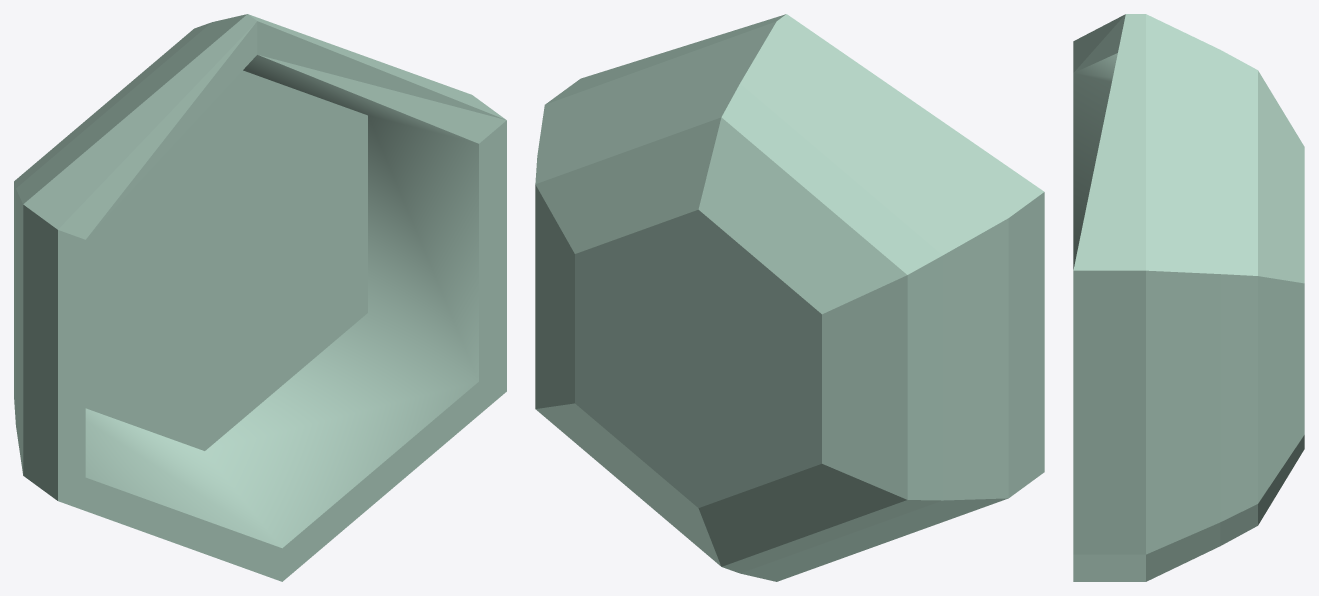
File: mediumbowl_visual.obj
3 renders of one model, left to right at view 1: azimuth 30°, elevation 25°; view 2: azimuth 150°, elevation 25°; view 3: azimuth 270°, elevation 25°, orthographic. The views are drawn at different scales.
Parts seen in each view (by area): view 1: mediumBowl10_ID5.000; view 2: mediumBowl10_ID5.000; view 3: mediumBowl10_ID5.000.
Boxes of the visible parts, x1,y1,x2,y2 form: mediumBowl10_ID5.000: [14, 14, 506, 581]; mediumBowl10_ID5.000: [535, 14, 1044, 581]; mediumBowl10_ID5.000: [1073, 14, 1304, 581].
Size of the model in its own units: 0.2511 by 0.2899 by 0.1069.
